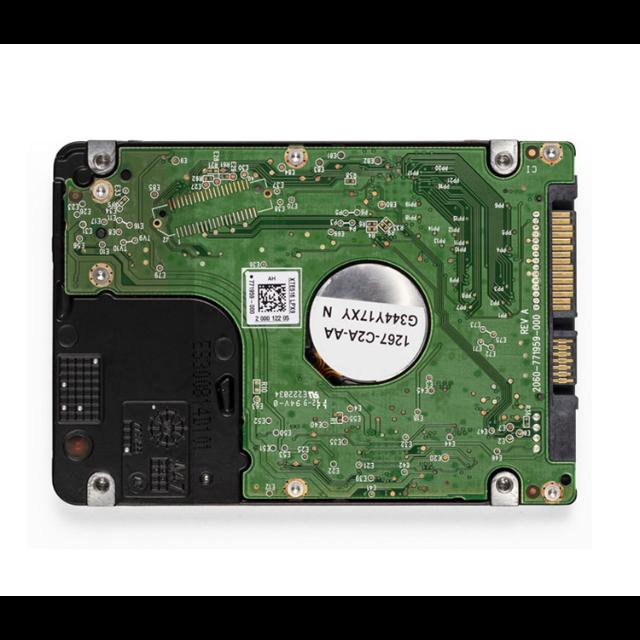HDD: (50, 140, 579, 510)
